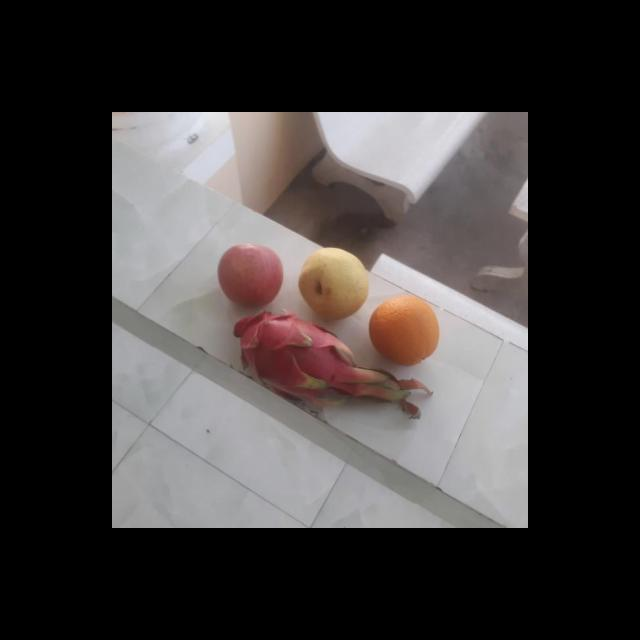apple: (215, 244, 282, 308)
orange: (367, 296, 441, 364)
pear: (294, 248, 372, 320)
pitaya: (230, 308, 355, 396)
